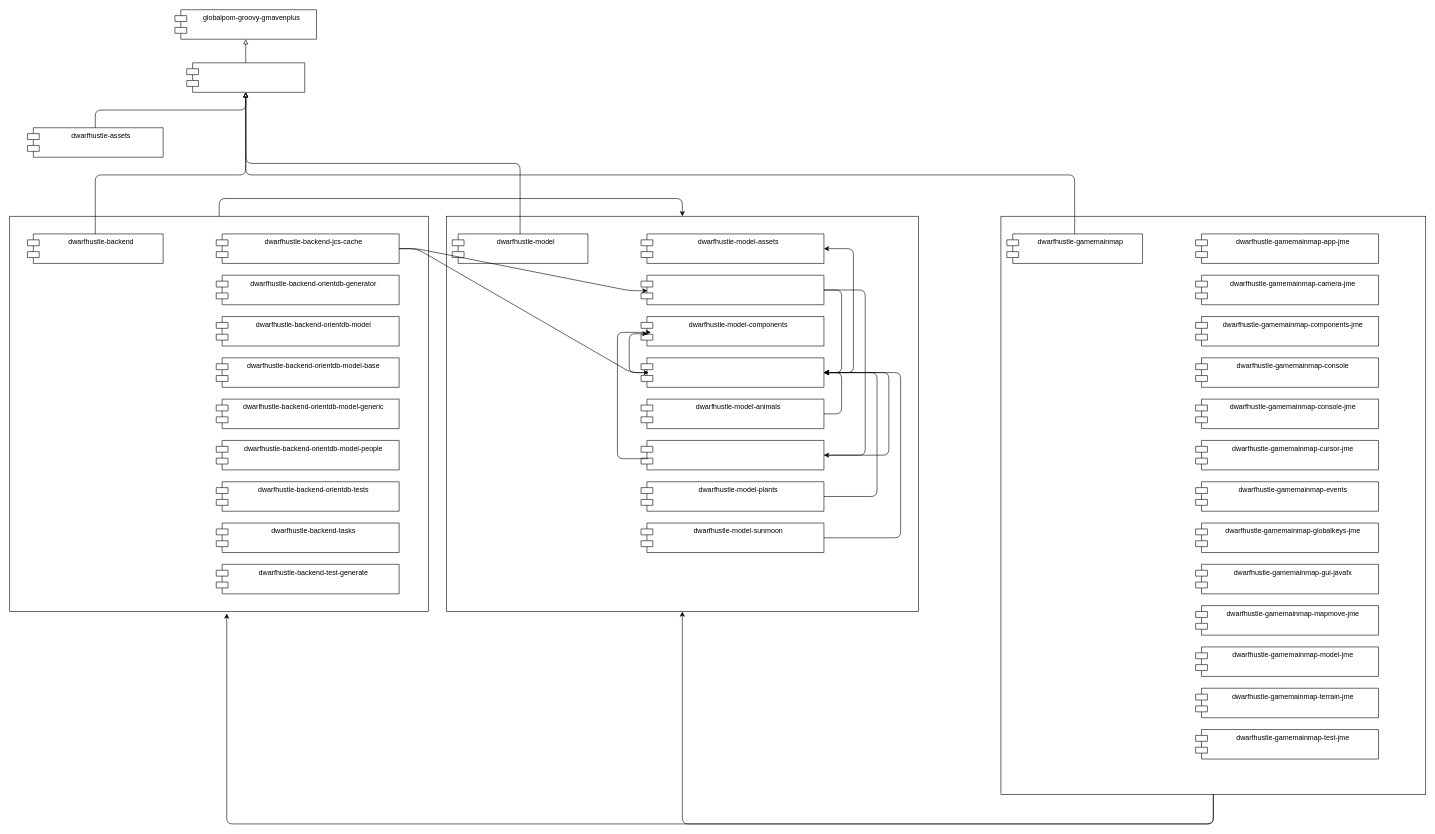
Image size: 1435x834. Some labels were removed from this diagram. Each missing label, with the box of its shape:
dwarfhustle-model-game: (640, 275, 824, 305)
dwarfhustle-model-generic: (640, 357, 824, 387)
dwarfhustle-model-people: (640, 440, 824, 470)
dwarfhustle-parent: (186, 62, 305, 92)
